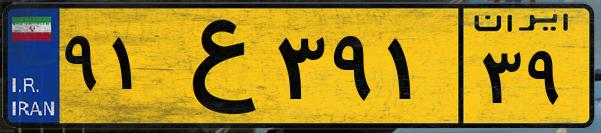1: (385, 28, 445, 110), (110, 28, 158, 98)
3: (270, 28, 330, 110), (475, 38, 525, 113)
9: (330, 28, 385, 110), (57, 26, 110, 100), (525, 38, 570, 115)
ع: (158, 12, 270, 120)
